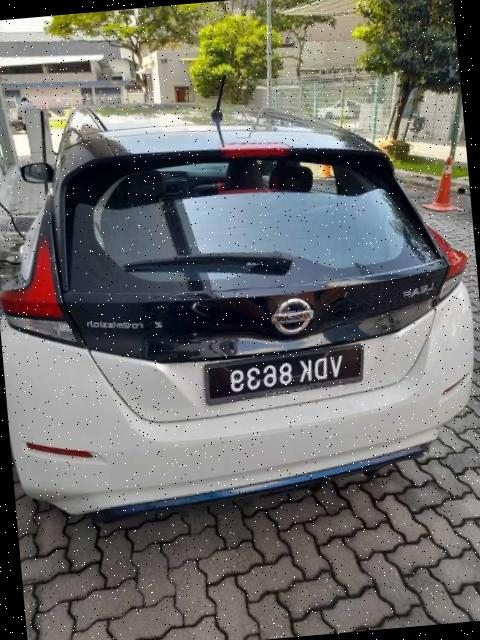License_Plate: (202, 344, 368, 406)
car: (1, 58, 480, 529)
